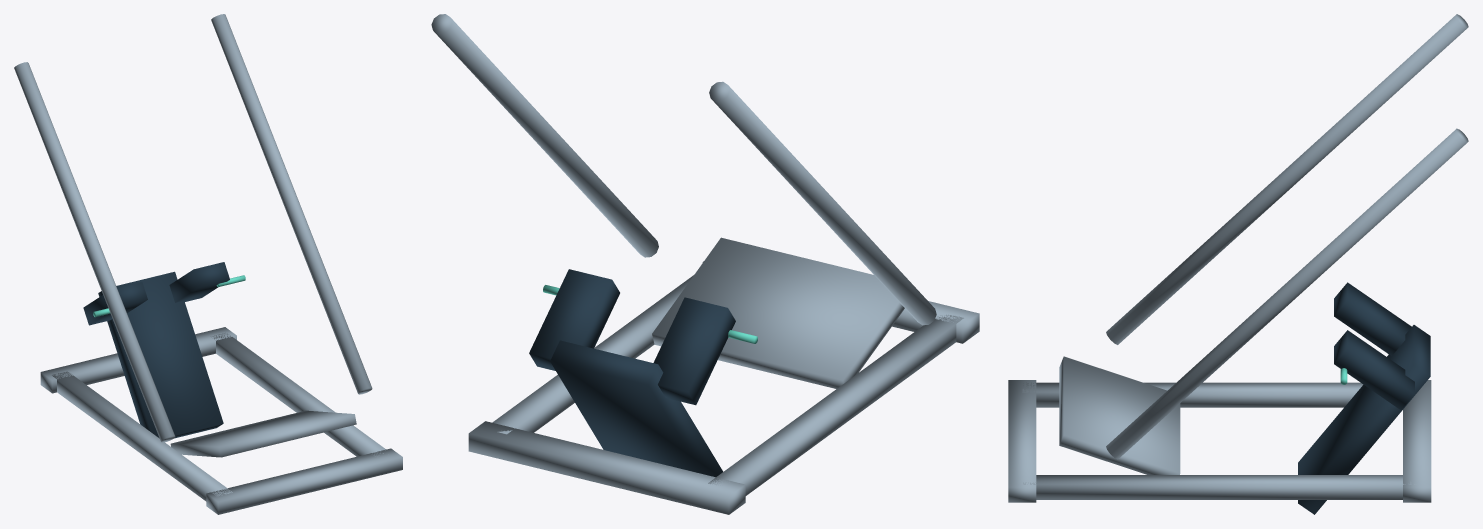
File: machine_b_hack_squat.glb
3 views of the same model, side by side, from view 1: azimuth 30°, elevation 25°; view 2: azimuth 150°, elevation 25°; view 3: azimuth 270°, elevation 25° (orthographic). The views are drawn at different scales.
Visible parts, largest first — view 1: base, back_pad, rail-1, rail1, plate, shoulder_pad; view 2: base, plate, back_pad, shoulder_pad, rail-1, rail1; view 3: base, plate, rail-1, rail1, back_pad, shoulder_pad.
Boxes of the visible parts, x1,y1,x2,y2 form: base: (40, 327, 402, 514); back_pad: (98, 271, 223, 438); rail-1: (14, 62, 175, 442); rail1: (211, 14, 372, 394); plate: (170, 410, 356, 457); shoulder_pad: (83, 262, 229, 325); base: (468, 261, 979, 514); plate: (652, 237, 904, 388); back_pad: (550, 340, 723, 477); shoulder_pad: (529, 269, 735, 405); rail-1: (709, 81, 936, 325); rail1: (431, 14, 658, 257); base: (1008, 380, 1431, 502); plate: (1059, 356, 1180, 474); rail-1: (1106, 14, 1468, 344); rail1: (1106, 128, 1468, 459); back_pad: (1298, 325, 1430, 514); shoulder_pad: (1334, 282, 1414, 410).
Bounding box in the file's own units: 1.02 × 1.65 × 1.63.
